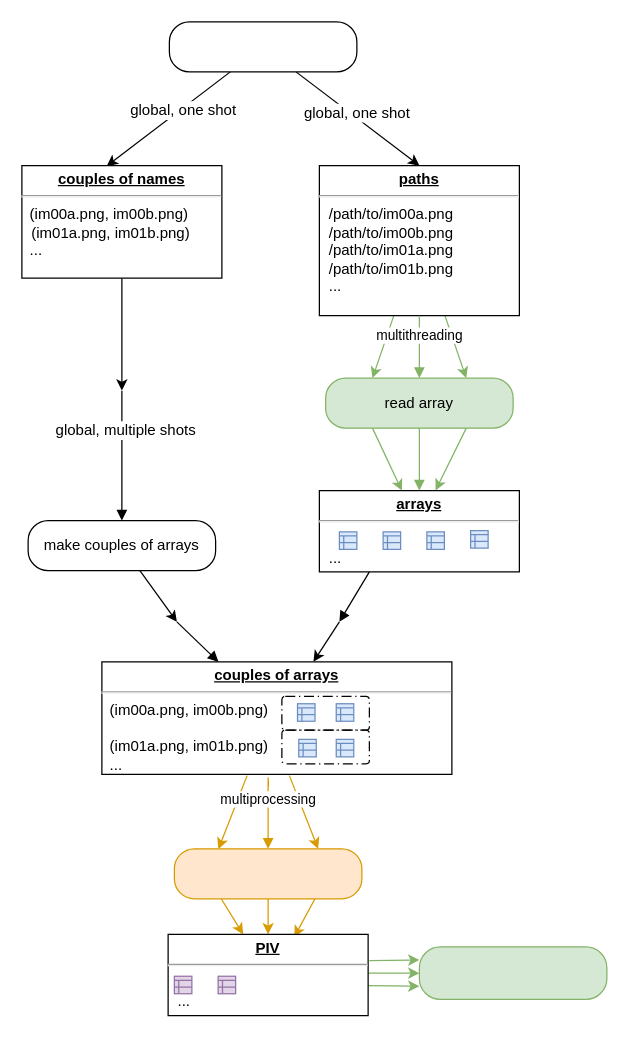
The diagram is 629 pixels wide and 1038 high, and some of its shapes have lost their labels. Here are the shapes that lost their labels. From the top down, the centre of each, then its label:
At [262,46]: "fill (couple of names, paths)".
At [267,873]: "compute PIV".
At [512,972]: "save PIV".
